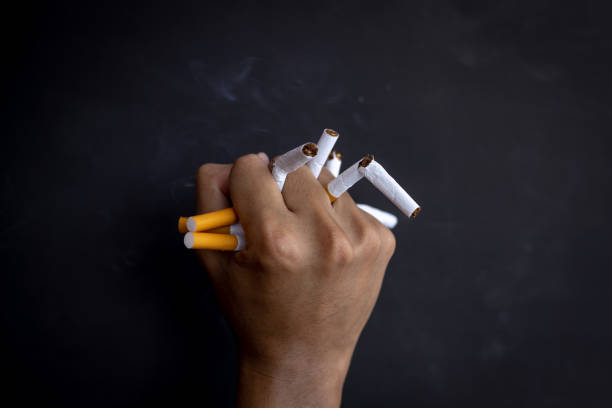cigarette: (357, 154, 422, 222), (269, 141, 320, 195), (322, 156, 375, 204), (304, 127, 340, 181), (176, 214, 245, 236), (185, 205, 239, 232), (183, 232, 248, 252), (354, 202, 399, 229), (325, 150, 343, 179)
